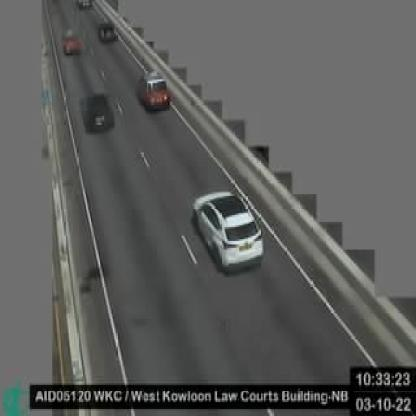Car: (191, 189, 267, 270), (136, 70, 172, 110), (81, 94, 117, 130), (98, 21, 119, 40)
